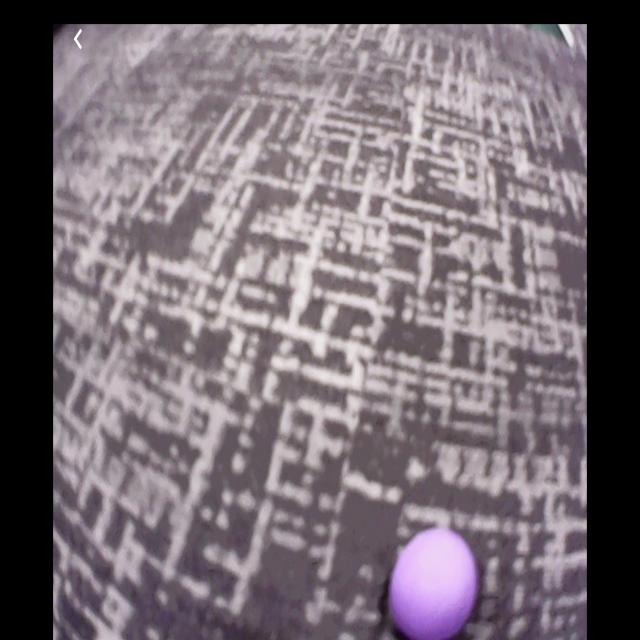ball: (392, 528, 477, 640)
